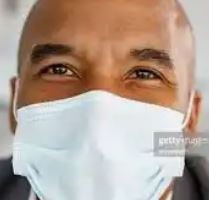with_facemask: (33, 95, 167, 198)
